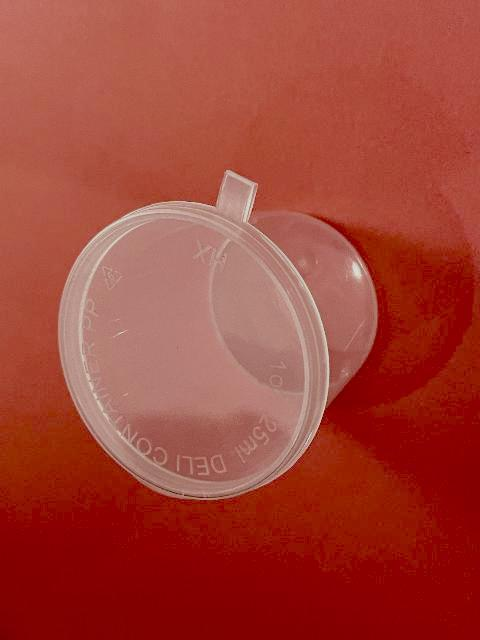plasticcontainer: (54, 164, 380, 506)
